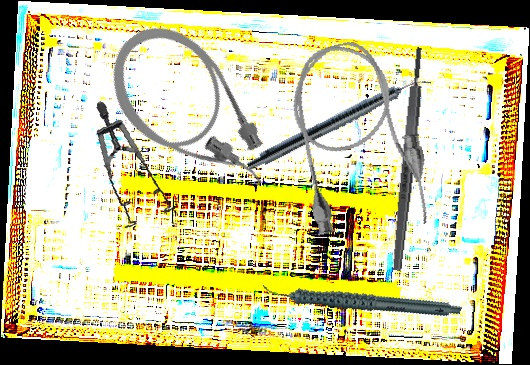Cannula: (90, 6, 290, 224), (277, 31, 439, 248)
Handpiece: (260, 242, 463, 357), (244, 68, 433, 177)
Scalpel Handle: (389, 46, 427, 272)
Speculum: (78, 99, 190, 236)
